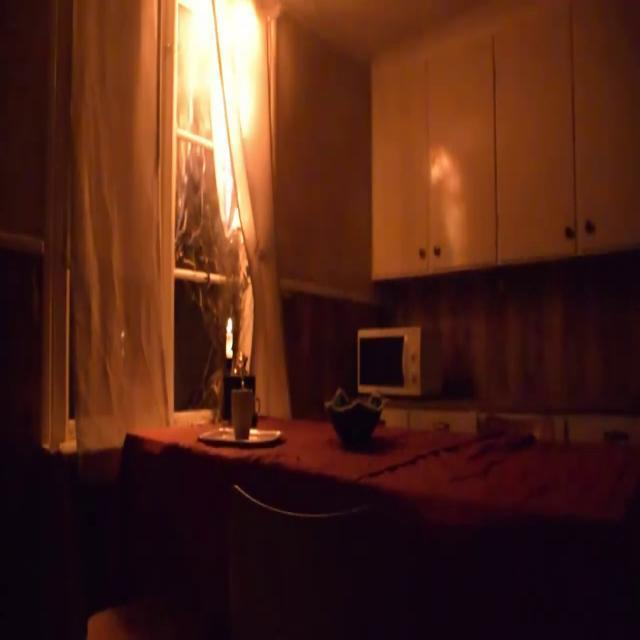Fire: (172, 0, 270, 230)
